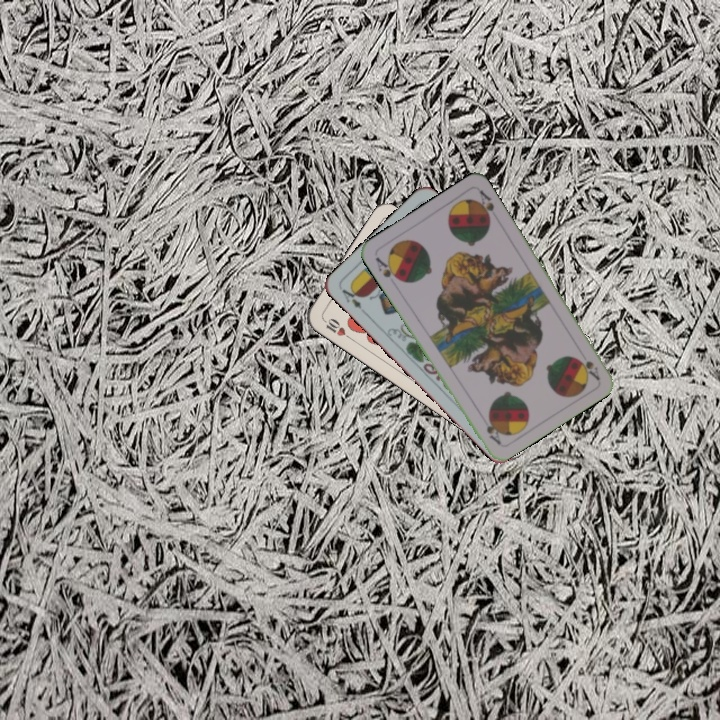EA: (338, 282, 364, 312)
H10: (318, 314, 354, 342)
SA: (371, 253, 404, 284), (575, 355, 602, 383)
